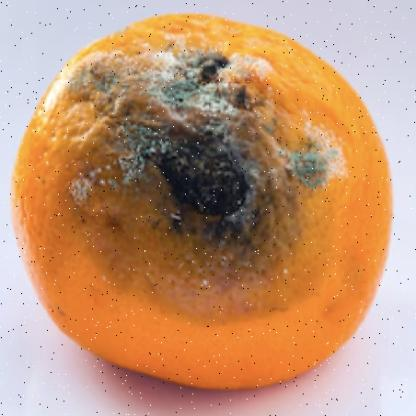rotten: (16, 13, 395, 392)
